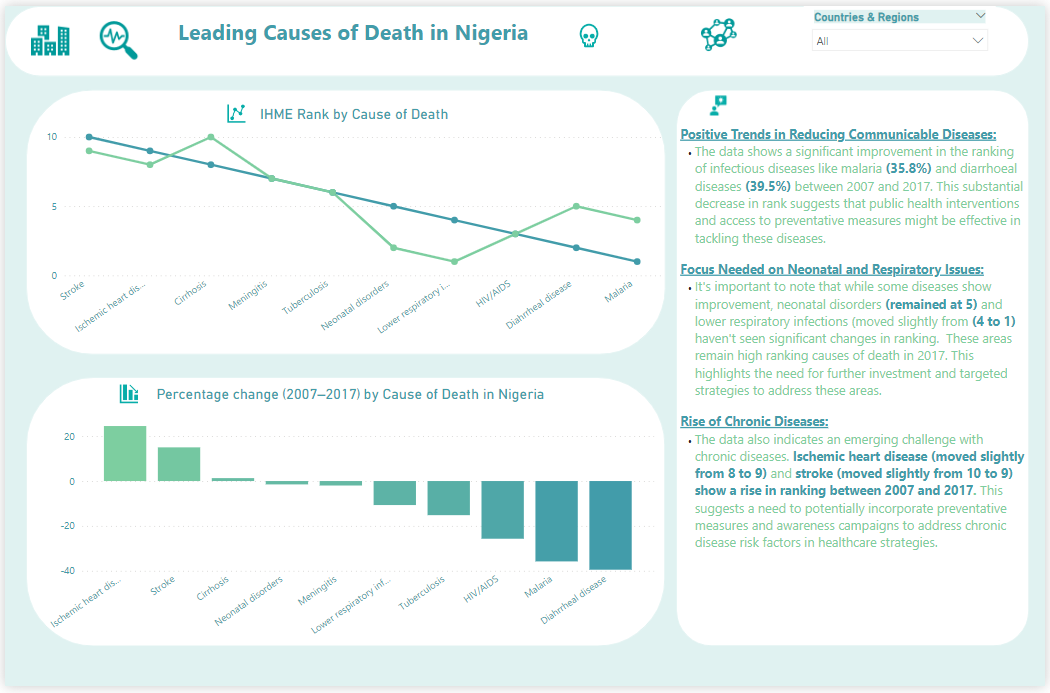

Layout of this report page (visuals, bound fields, positions):
{"tool":"powerbi","page":{"name":"Leading Cause of Death","canvas":[1300,850],"ordinal":1},"visuals":[{"type":"shape","box":[0,0,1280,88],"z":0},{"type":"shape","box":[27,105,799,331],"z":1000},{"type":"slicer","fields":{"Values":["Comparison_of_health_situations_in_Nigeria_with_some_reference_countries__region.Countries & Regions"]},"box":[998,0,240,77],"z":2000},{"type":"textbox","box":[170,9,530,54],"z":3000},{"type":"image","box":[14,10,84,67],"z":4000},{"type":"image","box":[817,7,150,60],"z":5000},{"type":"image","box":[98,10,88,67],"z":6000},{"type":"lineChart","title":"IHME Rank by Cause of Death","fields":{"Category":["Top_10_causes_of_most_deaths_in_Nigeria.Cause of death"],"Y":["Sum(Top_10_causes_of_most_deaths_in_Nigeria.IHME rank 2007)","Sum(Top_10_causes_of_most_deaths_in_Nigeria.IHME rank 2017)"]},"box":[47,125,779,299],"z":7000},{"type":"shape","box":[27.3,463.6,798.5,336.4],"z":8000},{"type":"columnChart","title":"Percentage change (2007–2017) by Cause of Death in Nigeria","fields":{"Category":["Top_10_causes_of_most_deaths_in_Nigeria.Cause of death"],"Y":["Sum(Top_10_causes_of_most_deaths_in_Nigeria.Percentage change (2007–2017))"]},"box":[47,475.8,769.7,324.2],"z":9000},{"type":"shape","box":[839.4,104.5,440.9,695.5],"z":10000},{"type":"textbox","box":[839.4,143.9,440.9,656.1],"z":11000},{"type":"image","box":[700,14,60,46],"z":12000},{"type":"image","box":[871,105,42,39],"z":13000},{"type":"image","box":[269,113,41,44],"z":14000},{"type":"image","box":[134,464,42,42],"z":15000}]}

Visuals, with their boxes in screenshot pixels (x1, y1, x2, y2), scaled from the page's 1300x850 canvas onto the 1050x693 screenshot:
shape: BBox(0, 0, 1034, 72)
shape: BBox(22, 86, 667, 355)
slicer - Comparison_of_health_situations_in_Nigeria_with_some_reference_countries__region.Countries & Regions: BBox(806, 0, 1000, 63)
textbox: BBox(137, 7, 565, 51)
image: BBox(11, 8, 79, 63)
image: BBox(660, 6, 781, 55)
image: BBox(79, 8, 150, 63)
"IHME Rank by Cause of Death" lineChart: BBox(38, 102, 667, 346)
shape: BBox(22, 378, 667, 652)
"Percentage change (2007–2017) by Cause of Death in Nigeria" columnChart: BBox(38, 388, 660, 652)
shape: BBox(678, 85, 1034, 652)
textbox: BBox(678, 117, 1034, 652)
image: BBox(565, 11, 614, 49)
image: BBox(704, 86, 737, 117)
image: BBox(217, 92, 250, 128)
image: BBox(108, 378, 142, 413)
